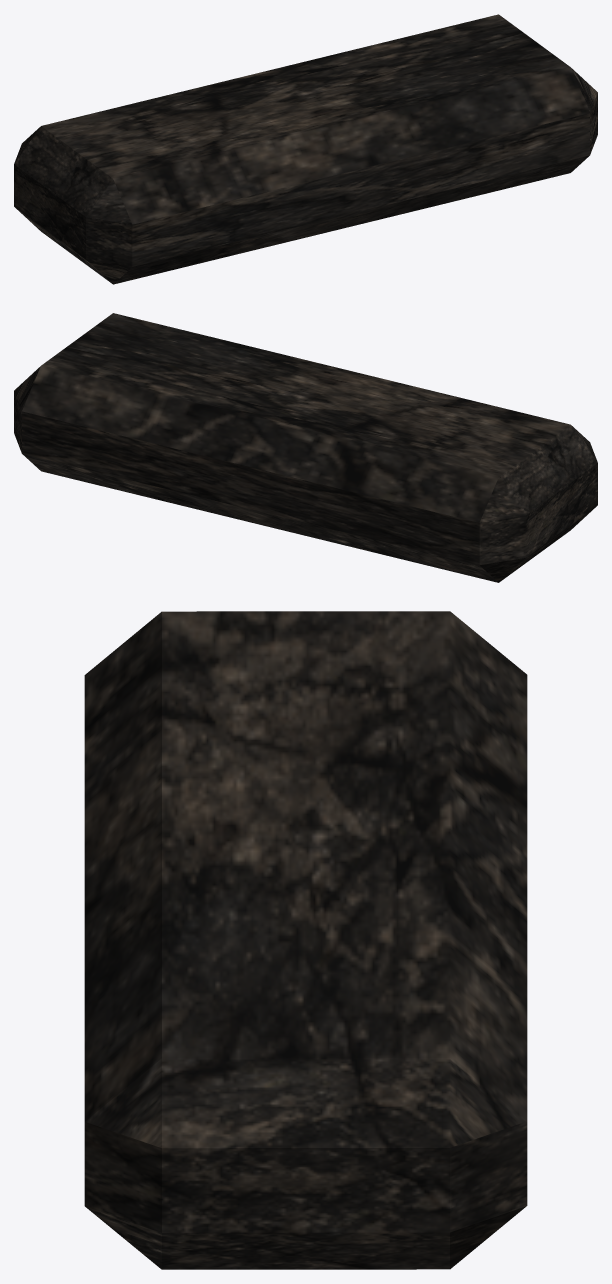
Rendered from LoveDeath_Step_Art.glb.
3 views of the same model, one above another, from view 1: azimuth 30°, elevation 25°; view 2: azimuth 150°, elevation 25°; view 3: azimuth 270°, elevation 25° (orthographic). The views are drawn at different scales.
Parts seen in each view (by area): view 1: LoveDeath_Step_Art; view 2: LoveDeath_Step_Art; view 3: LoveDeath_Step_Art.
Part boxes in pixels (left/top/right/bottom): LoveDeath_Step_Art: left=14, top=14, right=597, bottom=284; LoveDeath_Step_Art: left=14, top=313, right=597, bottom=582; LoveDeath_Step_Art: left=84, top=611, right=527, bottom=1269.
Bounding box in the file's own units: 1.25 × 0.2471 × 0.4674.
1 material, 1 textured.
